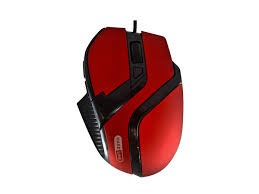mouse: (73, 24, 196, 171)
